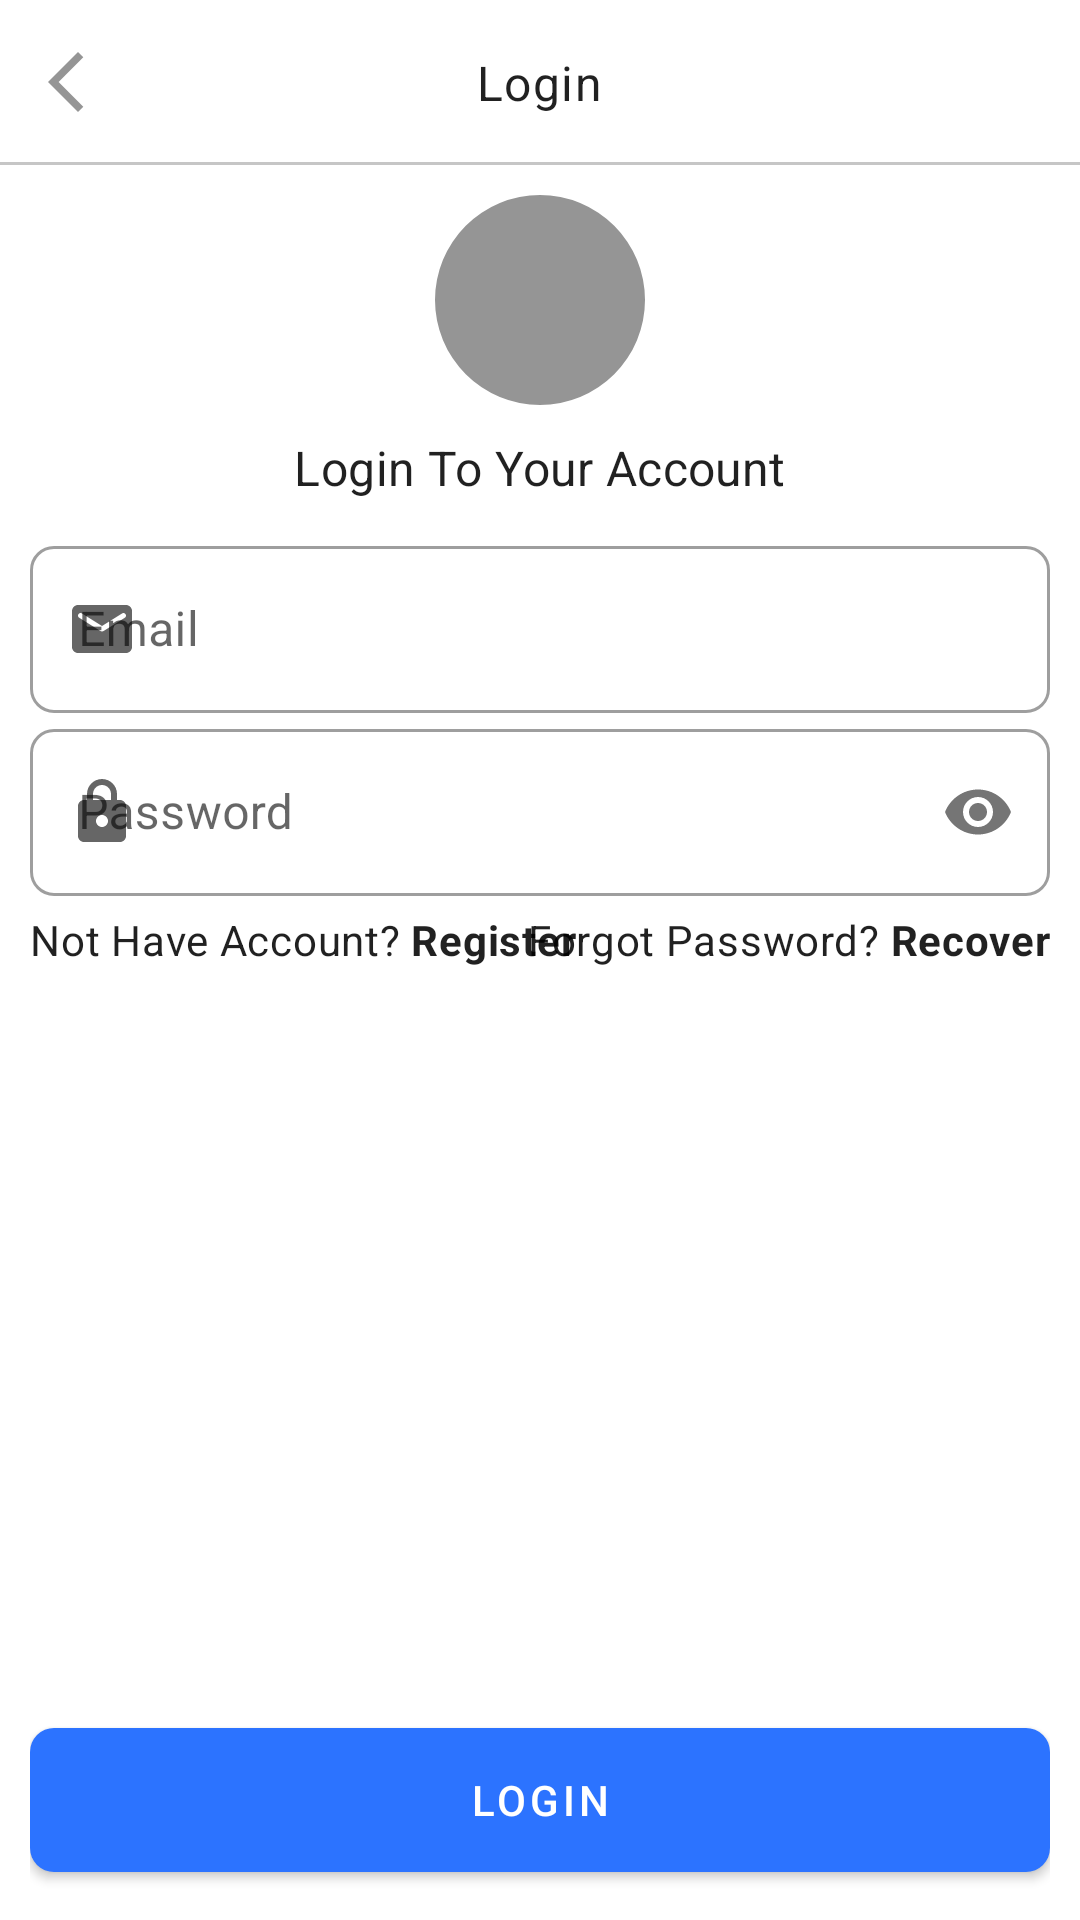

Icon click points for this 1080 x 1920 phone screenshot, format [x,y]:
back: [65,82]
